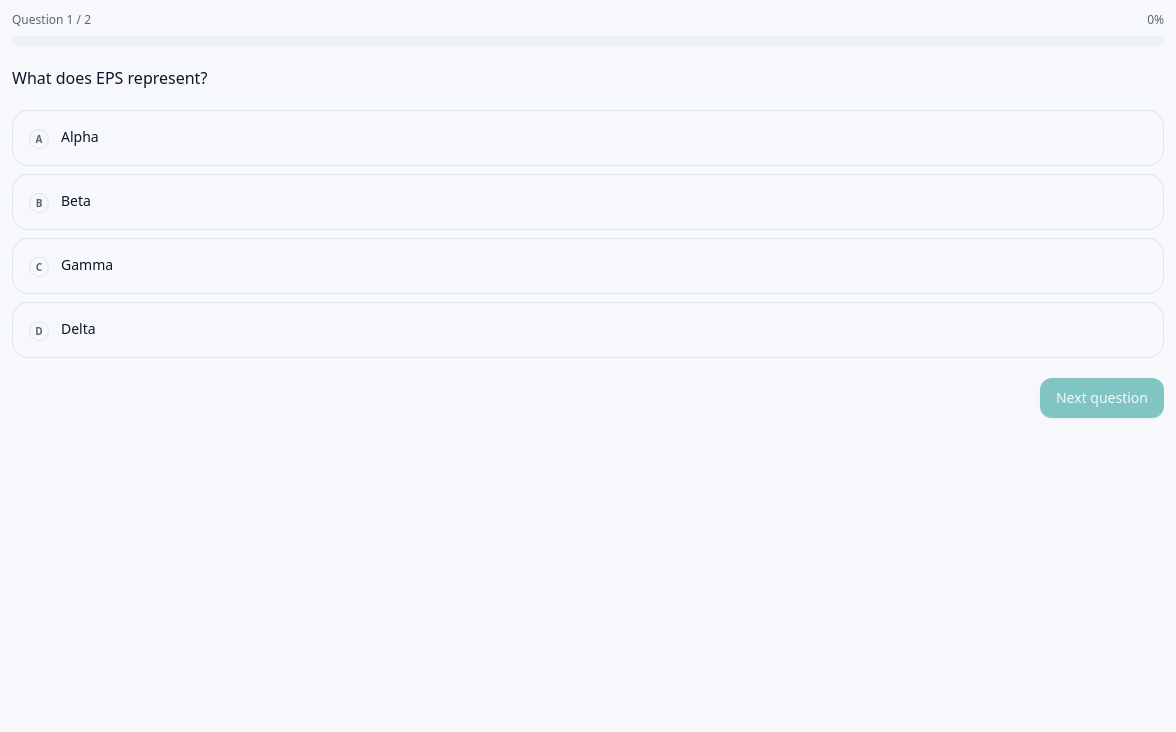
Test case: Quiz › marks a wrong answer and still explains
The width and height of the screenshot is (1176, 732).
Step 1. Click the button "A Alpha" → (80, 136), box [12,110,1164,166]
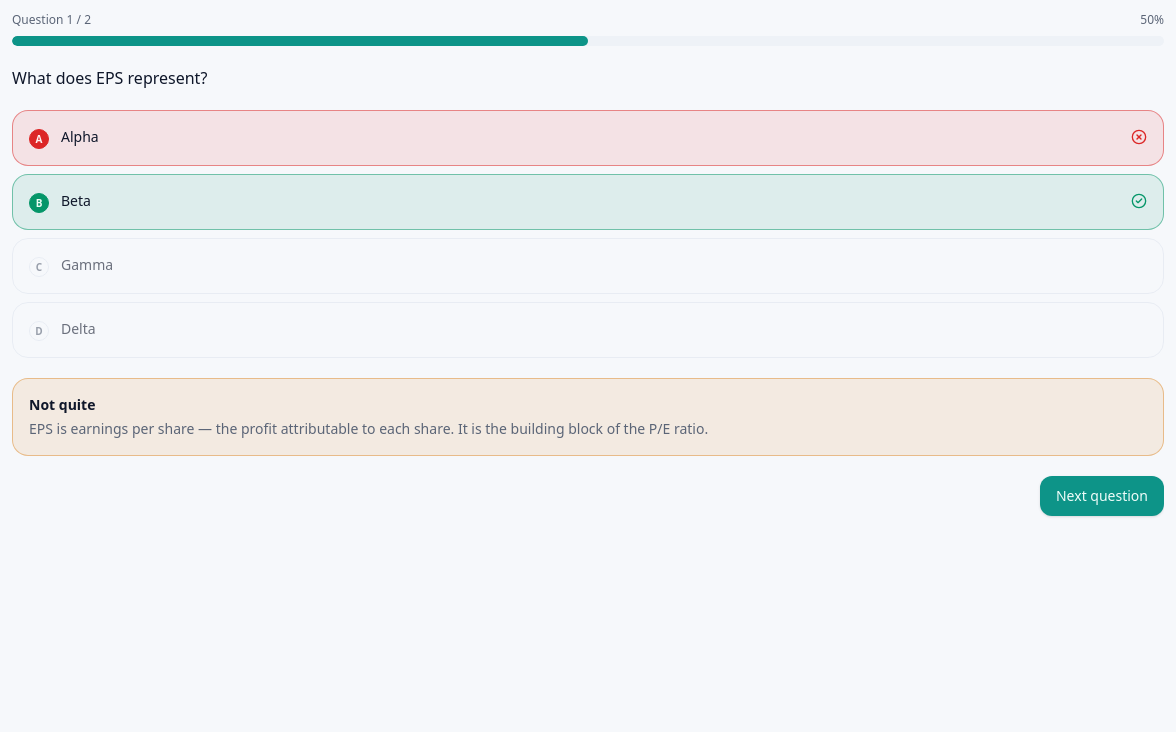
Expected: the text "Not quite" is shown, [29,395,96,414]
Expected: the text "building block of the P/E ratio" is shown, [29,419,708,438]
